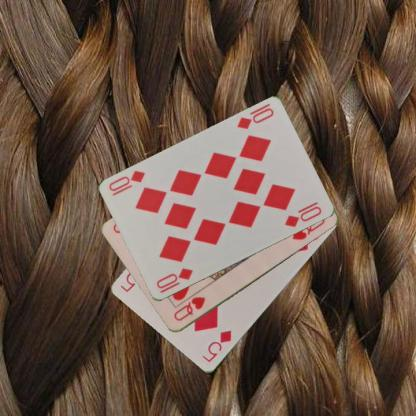10d: (234, 101, 275, 131), (154, 265, 194, 291)
5d: (199, 328, 233, 364)
Qh: (171, 294, 207, 323)
